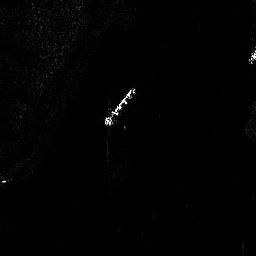ship: (105, 85, 138, 125)
